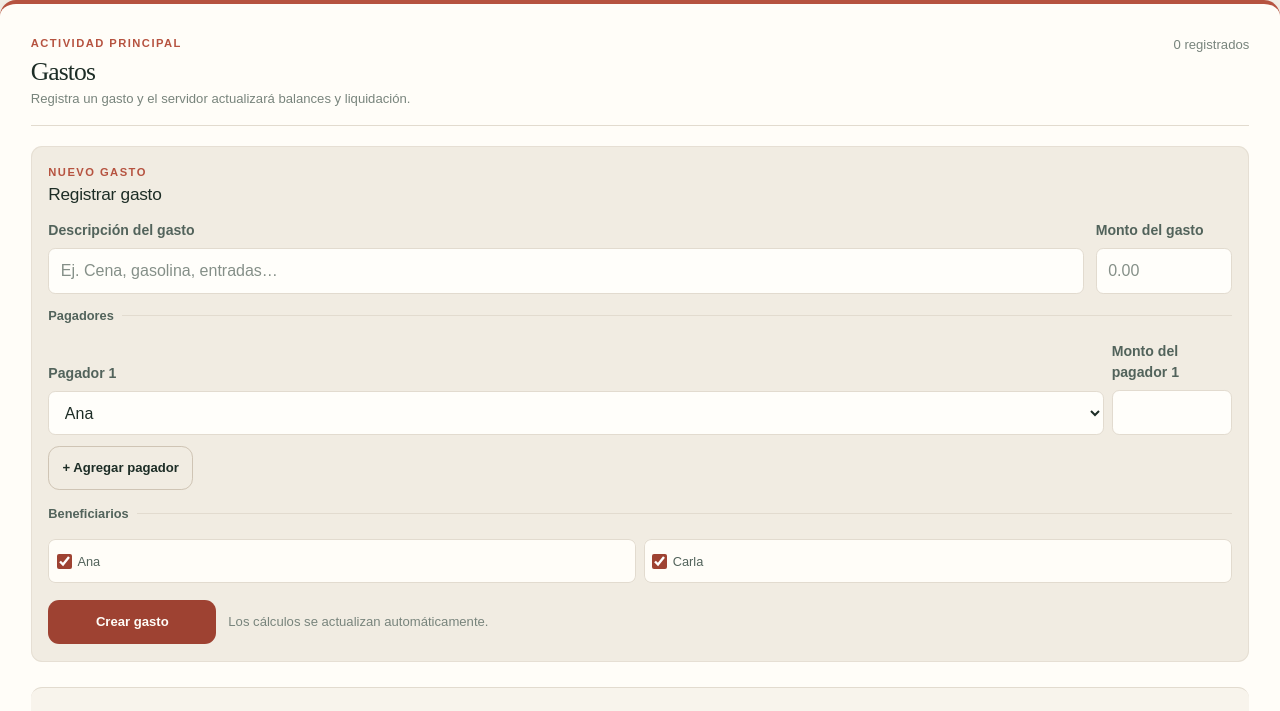
Scenario: expenses panel › binds a server contribution mismatch to the editable form without changing the list
Type "Dinner" into the field labelled "Descripción del gasto". click: coordinates (566, 271)
box: [48, 248, 1084, 294]
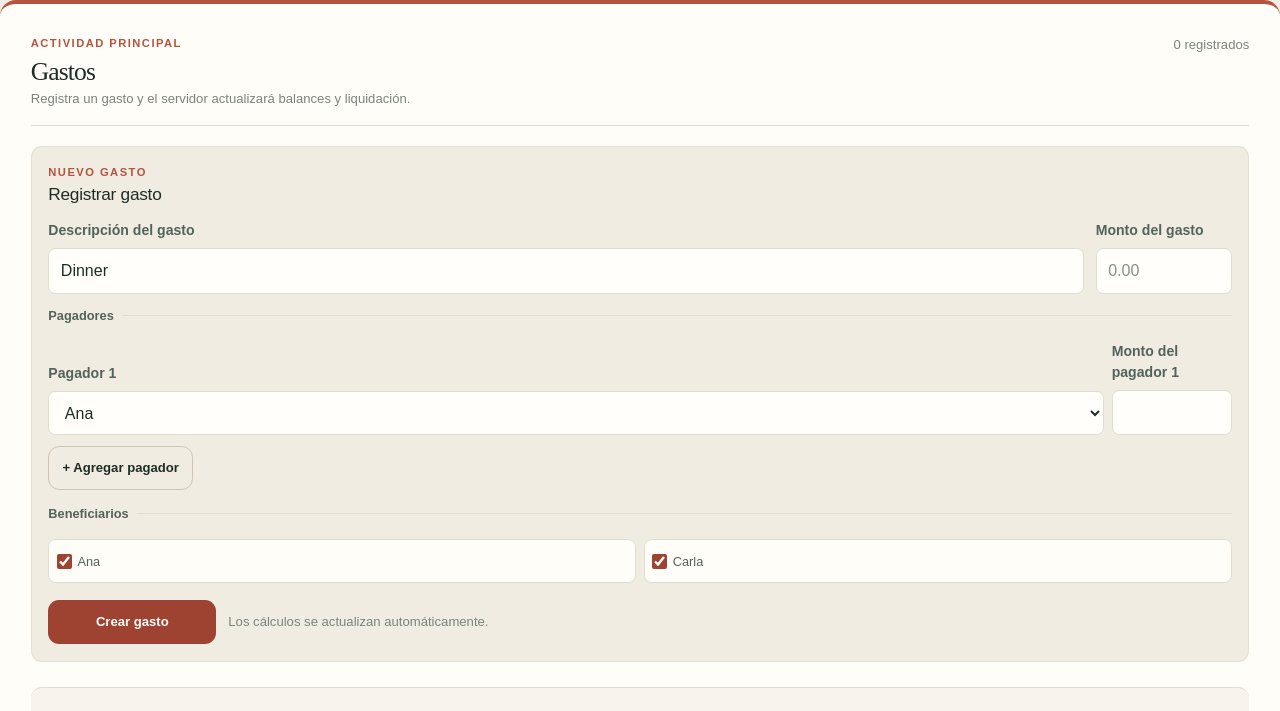
Type "10.00" into the field labelled "Monto del gasto". click: coordinates (1164, 271)
box: [1096, 248, 1232, 294]
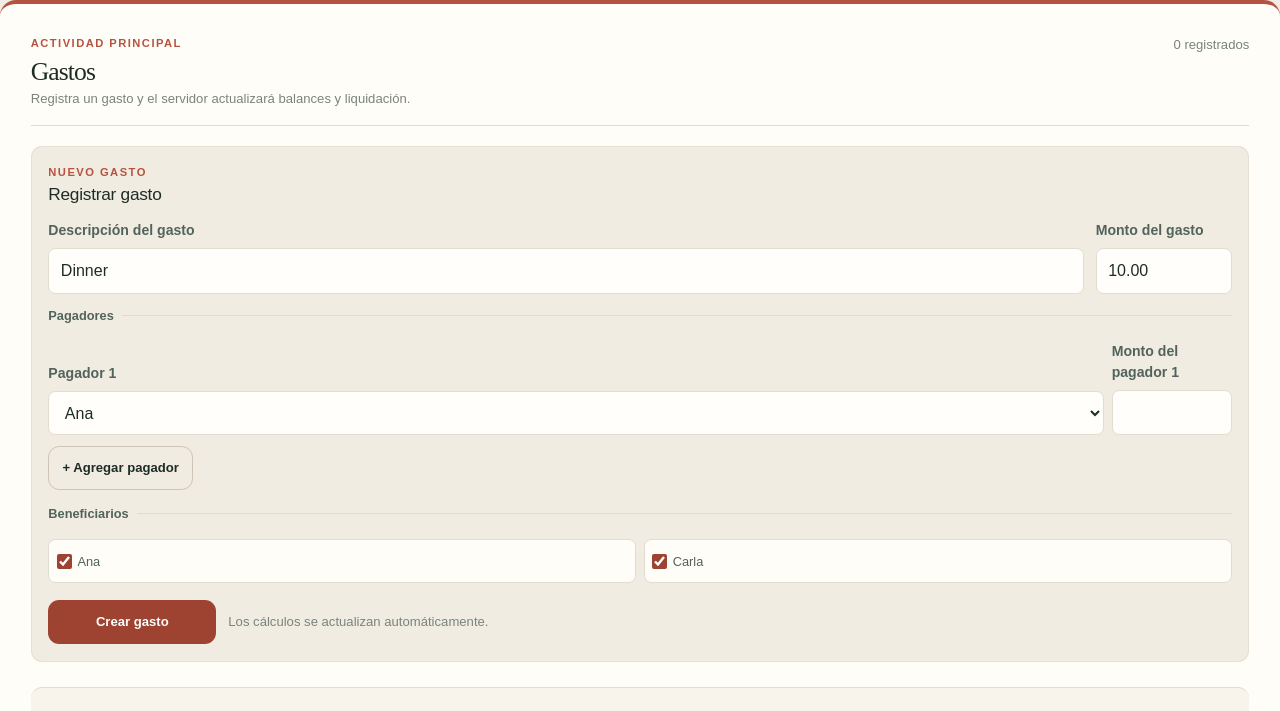
Click the button "Crear gasto". click: coordinates (132, 622)
box: [48, 600, 216, 644]
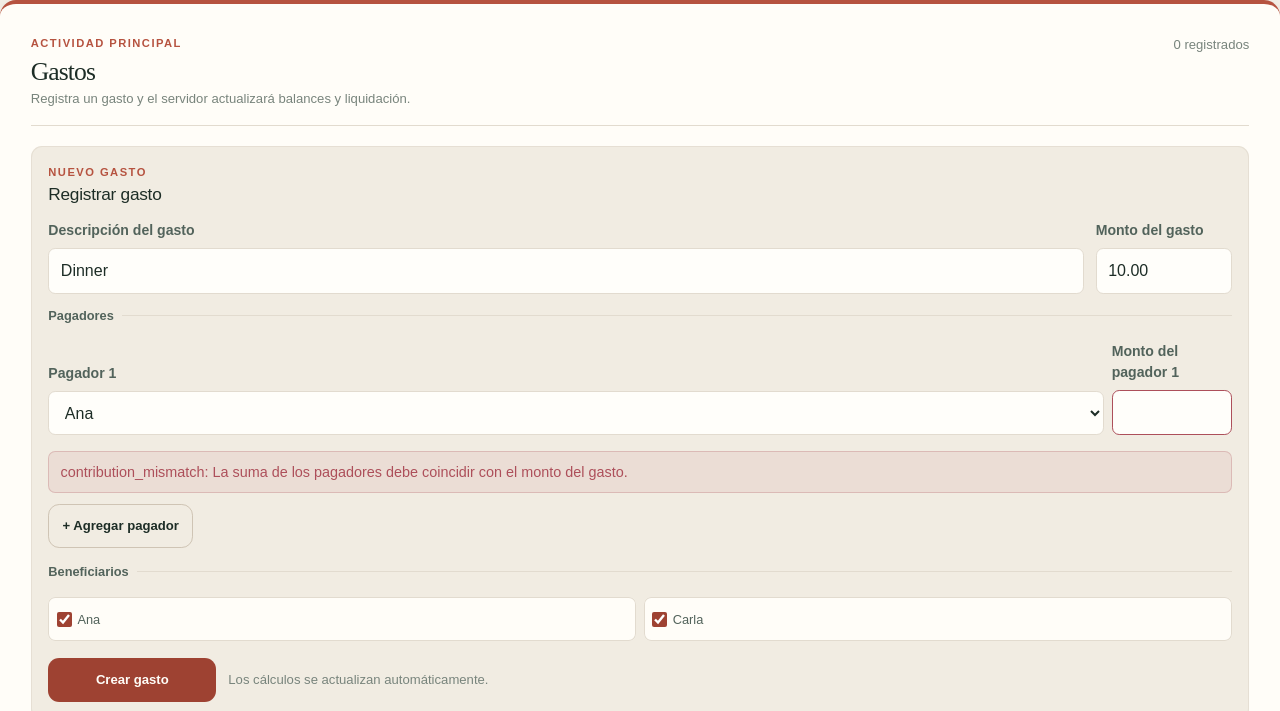
Now the message shows "contribution_mismatch", box [60, 464, 628, 480]
